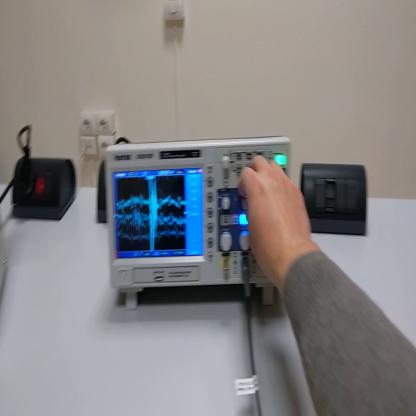hand: (242, 155, 313, 284)
oscilloscope: (110, 131, 302, 314)
power supply: (1, 201, 7, 313)
socket: (10, 158, 77, 224), (96, 160, 107, 225)
